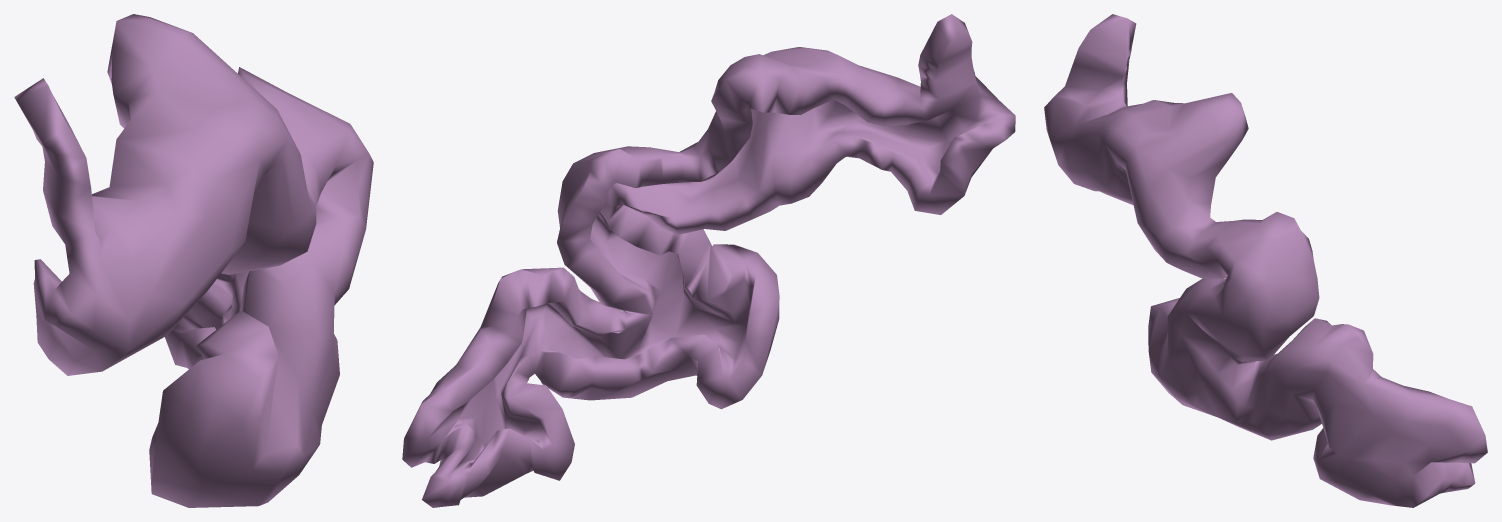
The picture shows the model from 3 angles, left to right: view 1: azimuth 30°, elevation 25°; view 2: azimuth 150°, elevation 25°; view 3: azimuth 270°, elevation 25°; orthographic projection. The views are drawn at different scales.
Visible parts, largest first — view 1: 左侧中央前回; view 2: 左侧中央前回; view 3: 左侧中央前回.
Boxes of the visible parts, x1,y1,x2,y2 form: 左侧中央前回: (14, 14, 373, 507); 左侧中央前回: (402, 14, 1015, 507); 左侧中央前回: (1044, 14, 1487, 507).
Bounding box in the file's own units: 0.0716 × 0.0819 × 0.0903.
